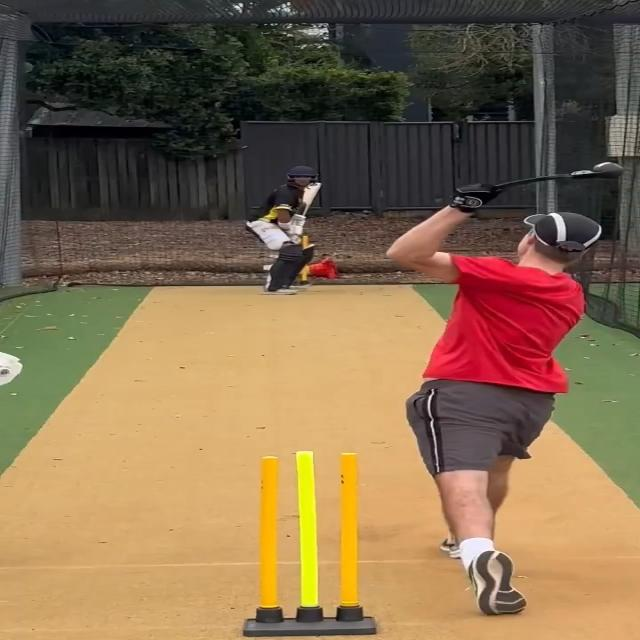stump: (240, 449, 386, 636)
